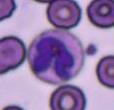N: (28, 29, 84, 84)
